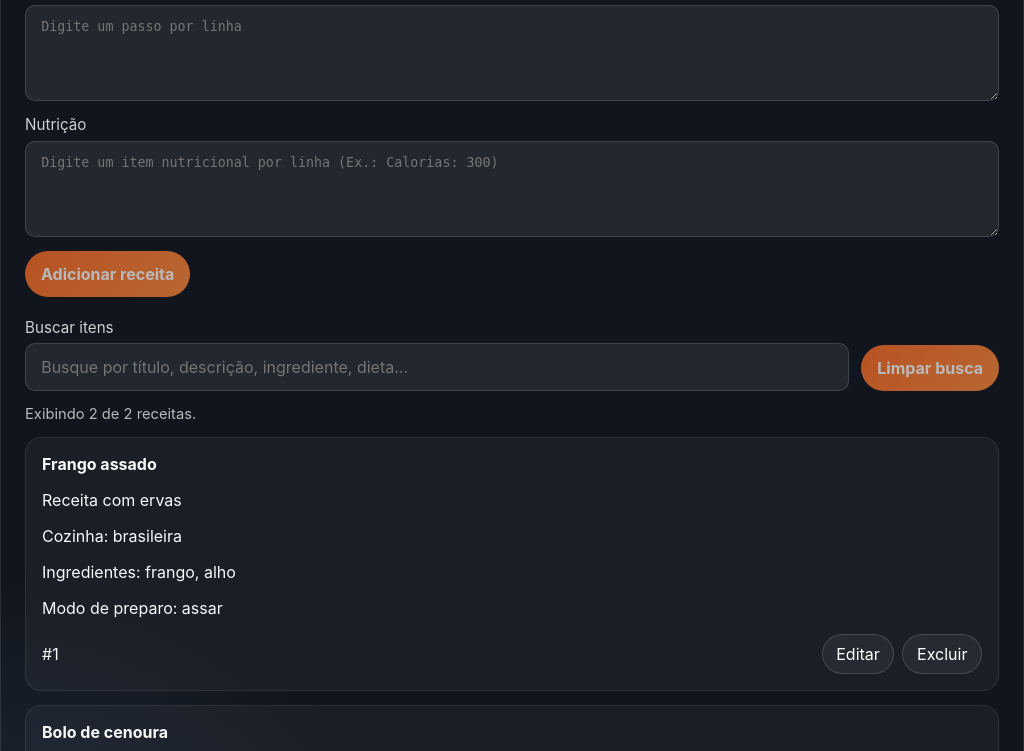
Test: filters listed recipes by search term in manager
(page scrolled)
Check: the text "Frango assado" is shown, box [42,454,157,474]
Check: the text "Bolo de cenoura" is shown, box [42,722,168,742]
Type "frango" into the search field labelled "Buscar itens". click: (437, 367)
box: [25,343,849,391]
(page scrolled)
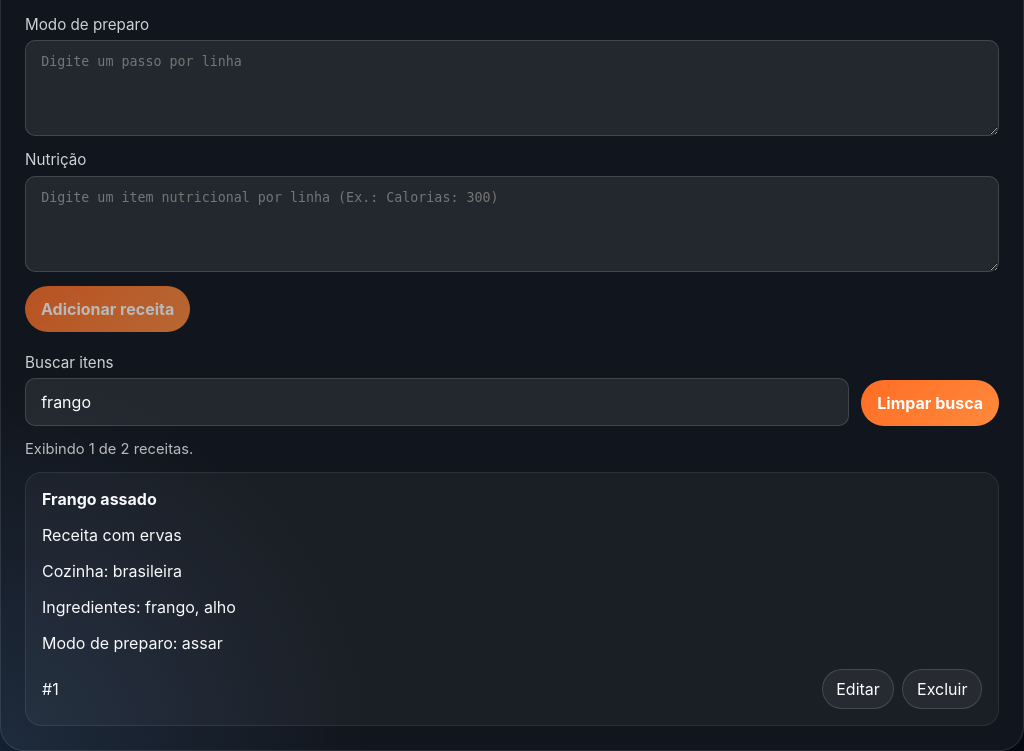
Check: the text "Frango assado" is shown, box [42,489,157,509]
Check: the text "Bolo de cenoura" is gone
Check: the text "Exibindo 1 de 2 receitas." is shown, box [25,440,193,458]
Click the button "Limpar busca". click: (930, 403)
box: [861,380,999,426]
(page scrolled)
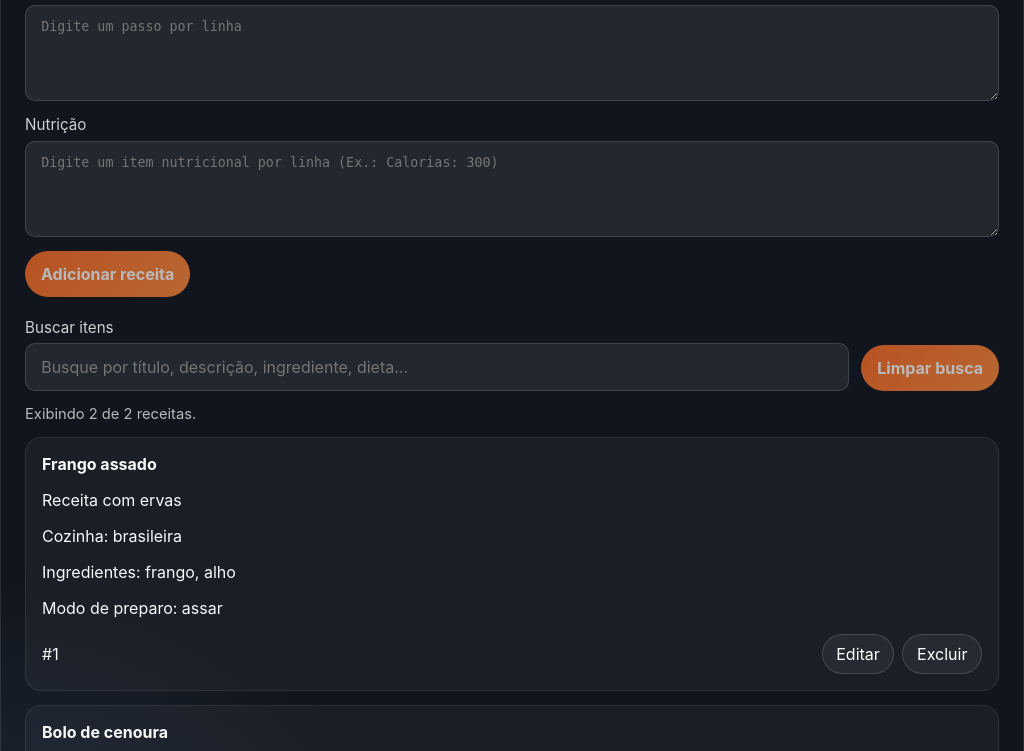
Check: the text "Exibindo 2 de 2 receitas." is shown, box [25,405,196,423]
Check: the text "Bolo de cenoura" is shown, box [42,722,168,742]
